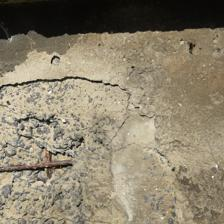Crack: (0, 9, 142, 104), (0, 151, 129, 165), (56, 27, 71, 53)
